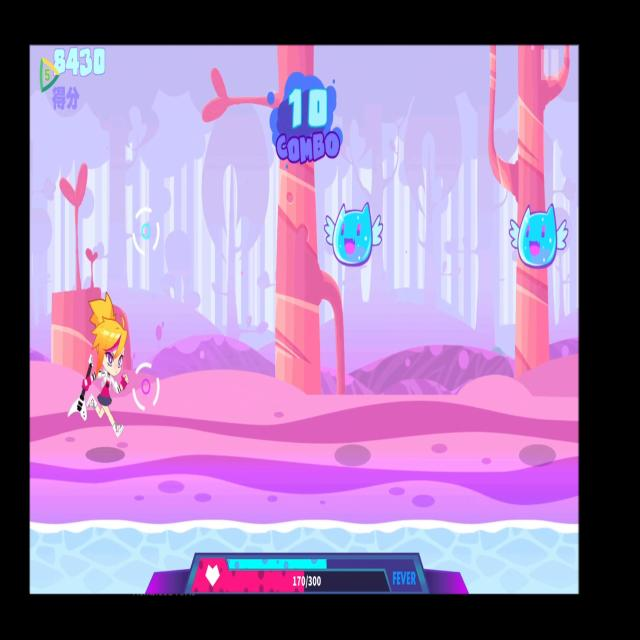mao: (323, 197, 387, 271), (507, 200, 571, 270)
